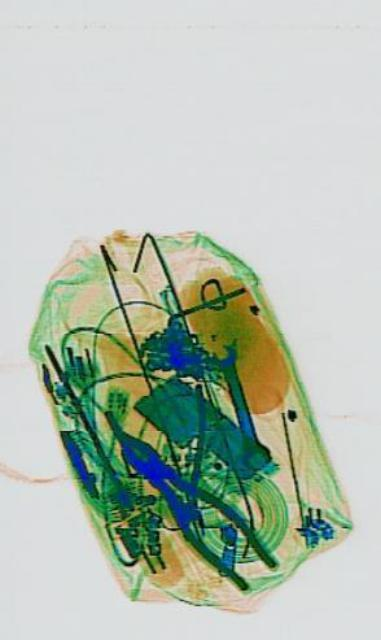Pliers: (108, 412, 277, 610), (101, 371, 220, 559)
Wrench: (204, 334, 270, 478)
